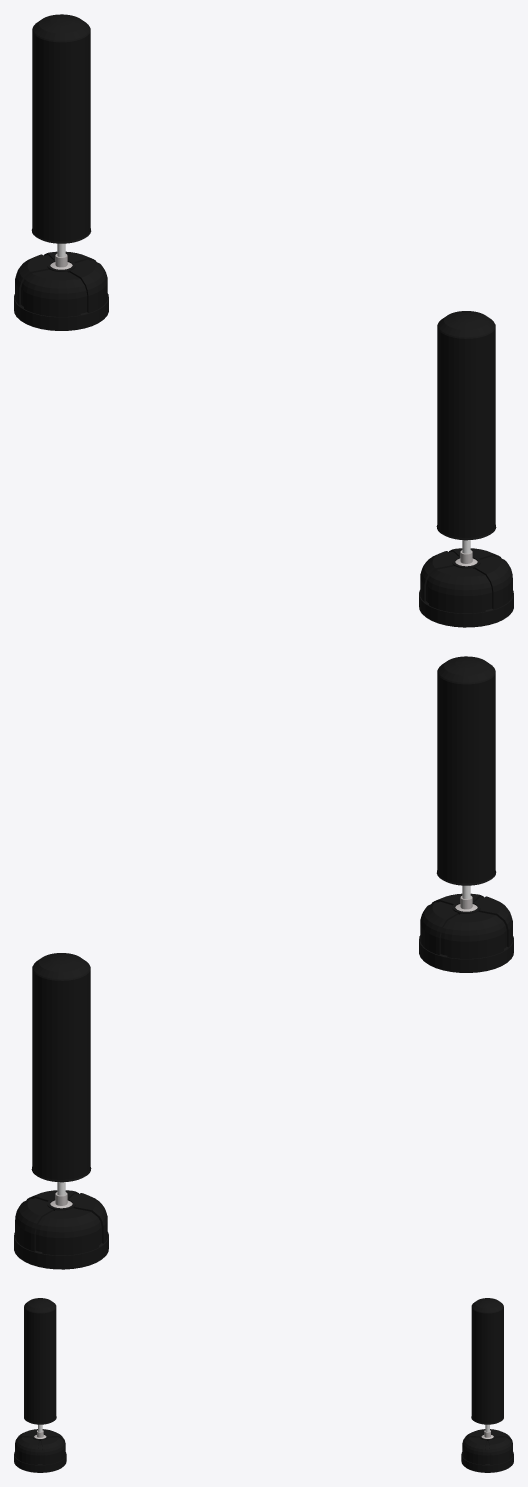
The model's file is costalPie.obj.
3 views of the same model, one above another, from view 1: azimuth 30°, elevation 25°; view 2: azimuth 150°, elevation 25°; view 3: azimuth 270°, elevation 25° (orthographic). The views are drawn at different scales.
Visible parts, largest first — view 1: CostalPie, CostalPie1; view 2: CostalPie1, CostalPie; view 3: CostalPie1, CostalPie.
Boxes of the visible parts, x1=… form: CostalPie: x1=419, y1=311, x2=513, y2=627; CostalPie1: x1=14, y1=14, x2=108, y2=330; CostalPie1: x1=14, y1=953, x2=108, y2=1269; CostalPie: x1=419, y1=656, x2=513, y2=972; CostalPie1: x1=461, y1=1298, x2=513, y2=1472; CostalPie: x1=14, y1=1298, x2=66, y2=1472.
Size of the model in its own units: 3.97 by 13.39 by 37.74.
1 material, 1 textured.
